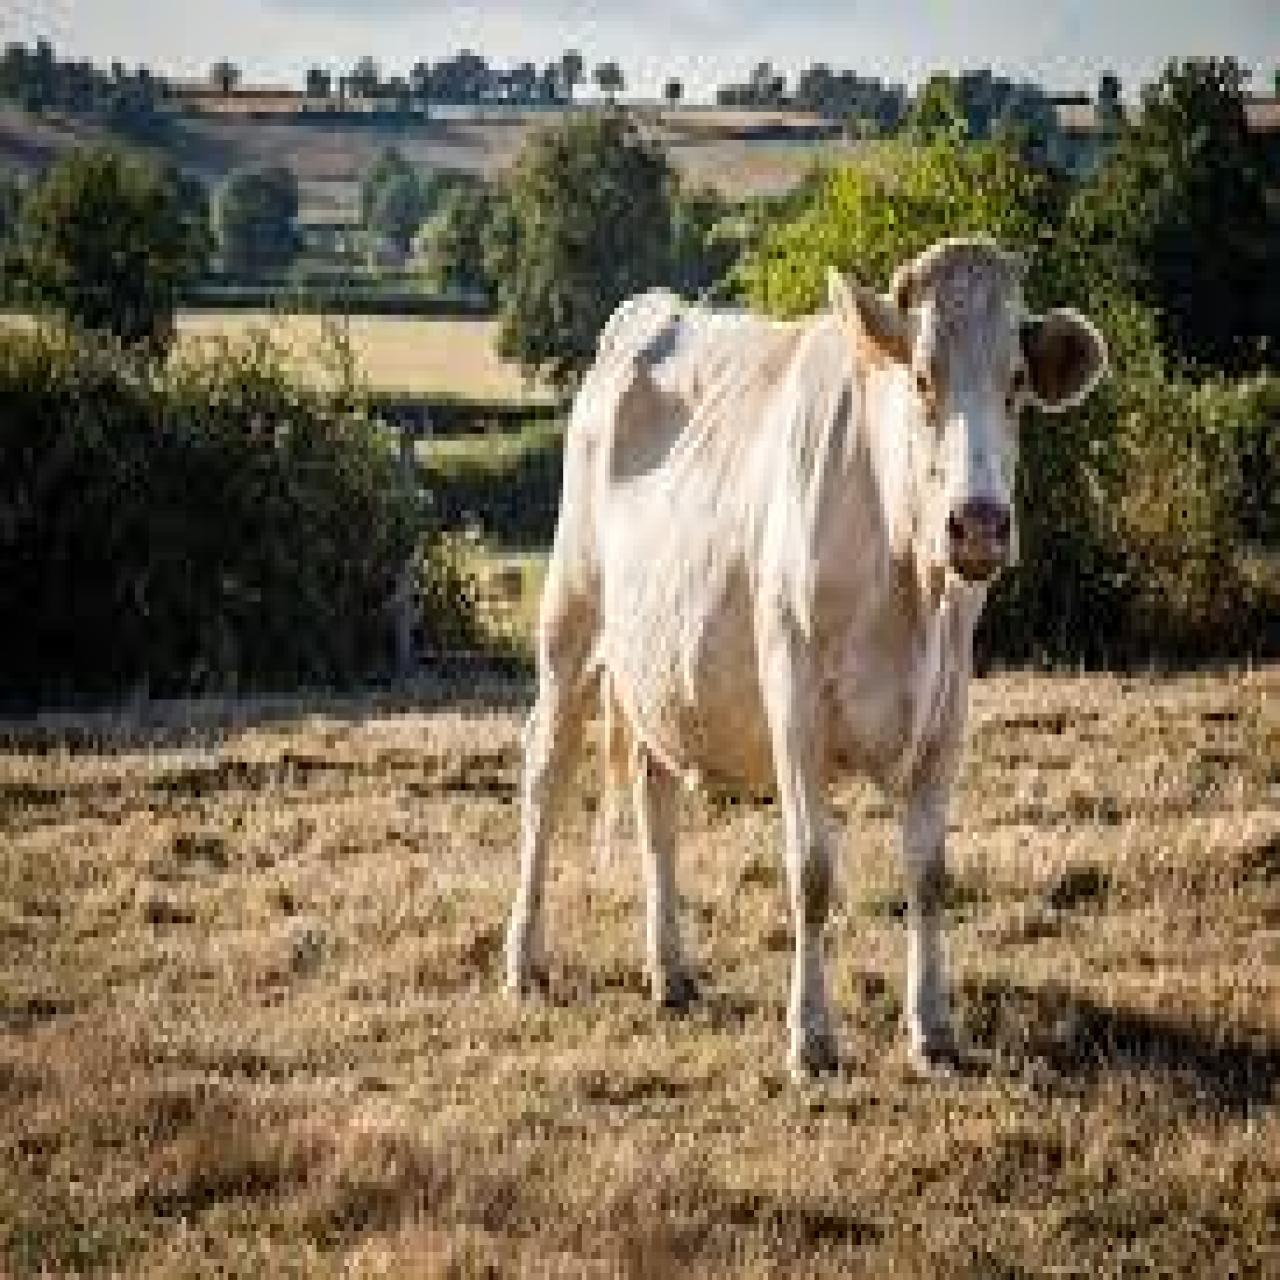cow: (505, 231, 1110, 1077)
